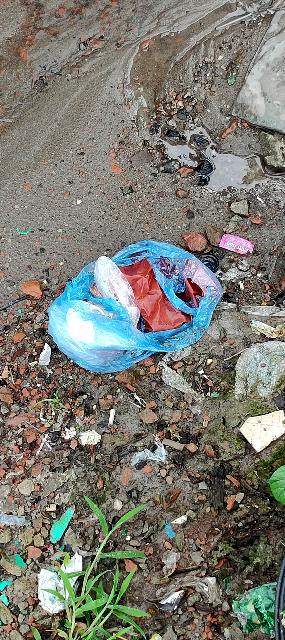polythene: (45, 234, 226, 370)
